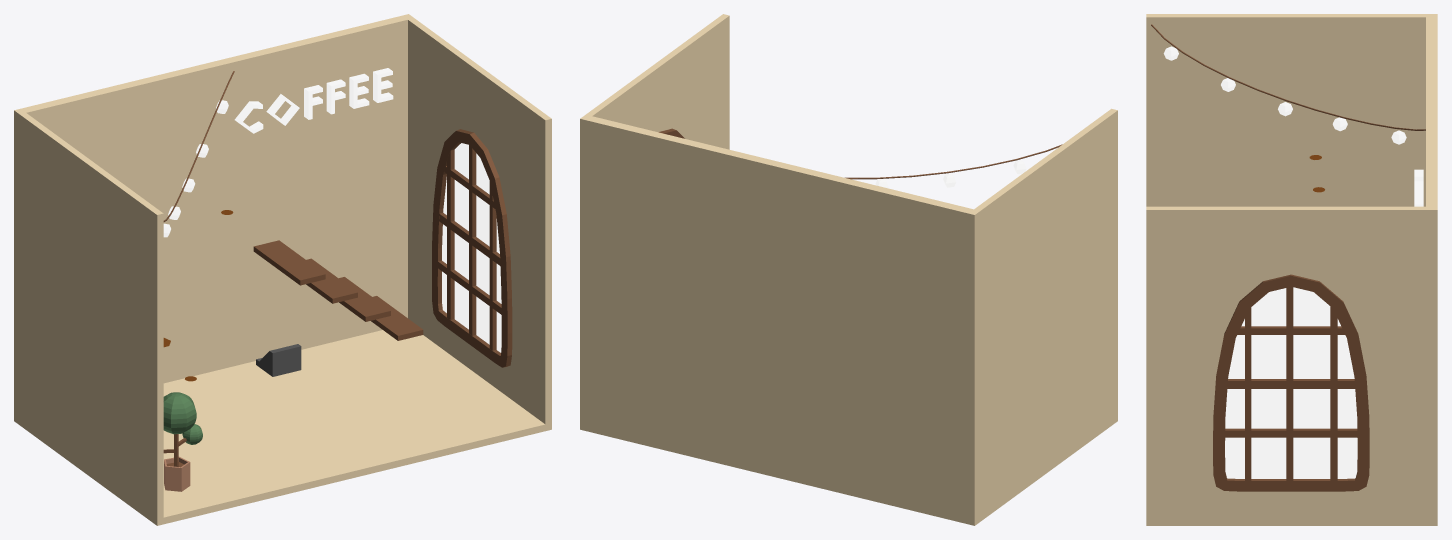
File: secondModel.glb
3 views of the same model, side by side, from view 1: azimuth 30°, elevation 25°; view 2: azimuth 150°, elevation 25°; view 3: azimuth 270°, elevation 25° (orthographic).
Visible parts, largest first — view 1: group2, windowglass, Panel, Light; view 2: group2; view 3: group2, windowglass, Light, Panel.
Part boxes in pixels (x1,y1,x2,y2): group2: [14, 14, 551, 525]; windowglass: [442, 143, 501, 352]; Panel: [234, 68, 393, 133]; Light: [163, 100, 228, 237]; group2: [580, 14, 1117, 525]; group2: [1146, 14, 1437, 525]; windowglass: [1225, 287, 1357, 478]; Light: [1163, 46, 1406, 144]; Panel: [1414, 169, 1423, 206].
Bounding box in the file's own units: 6.11 × 4.56 × 3.8.
